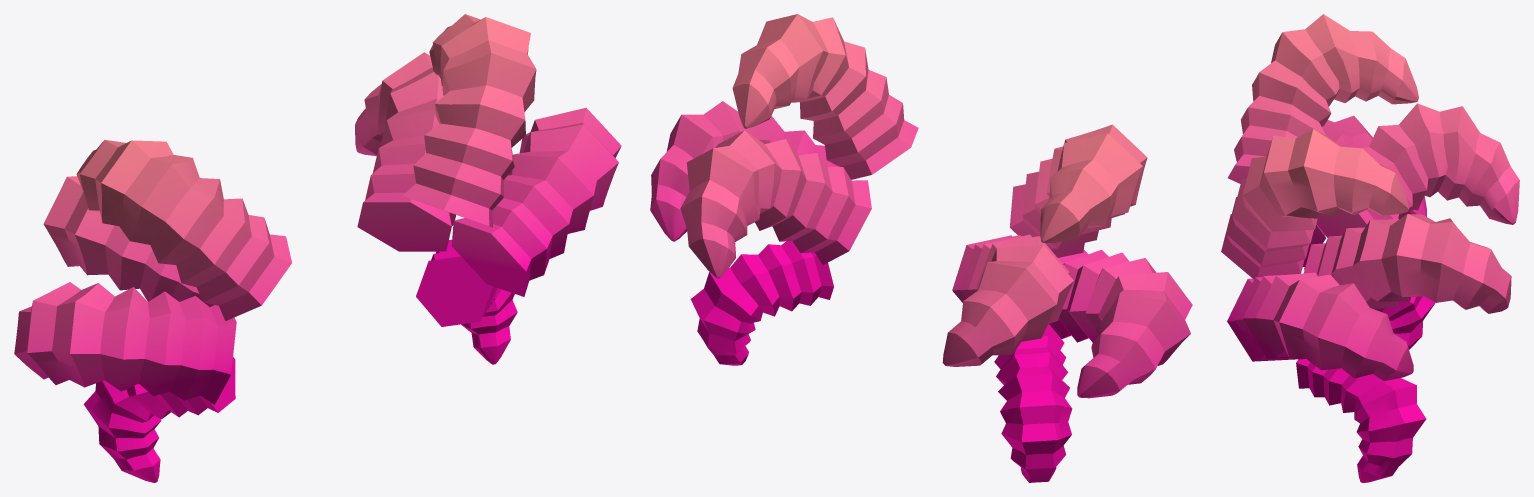
Rendered from Branquias_2.glb.
3 views of the same model, side by side, from view 1: azimuth 30°, elevation 25°; view 2: azimuth 150°, elevation 25°; view 3: azimuth 270°, elevation 25° (orthographic). The views are drawn at different scales.
Parts seen in each view (by area): view 1: HEXAGONO BRANQUIAS; view 2: HEXAGONO BRANQUIAS; view 3: HEXAGONO BRANQUIAS.
Boxes of the visible parts, <box> form: HEXAGONO BRANQUIAS: <box>14,14,621,482</box>; HEXAGONO BRANQUIAS: <box>650,14,1192,482</box>; HEXAGONO BRANQUIAS: <box>1221,14,1519,482</box>.
Size of the model in its own units: 2.79 by 1.9 by 1.37.
Materials: 1 (1 with a texture image).
